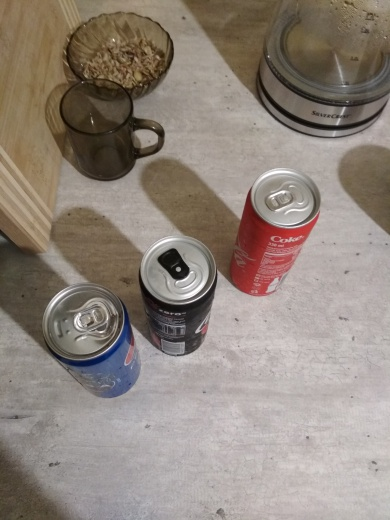cola: (224, 159, 328, 312)
colazero: (130, 226, 228, 395)
pepsi: (35, 281, 150, 424)
